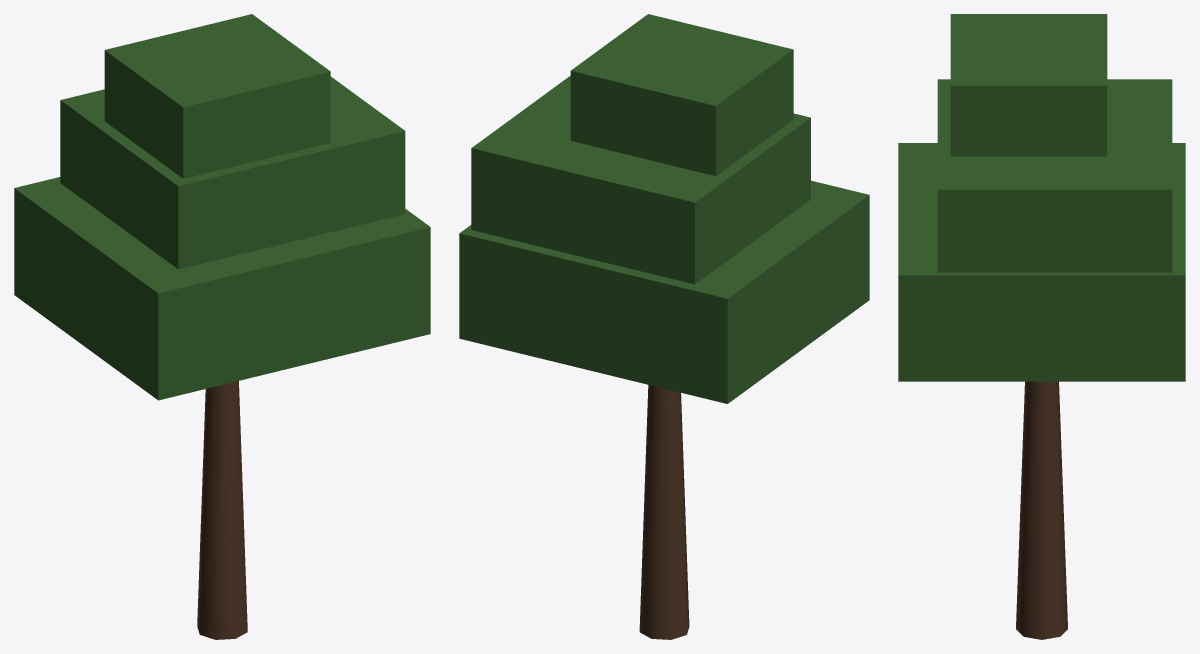
File: SM_P1_Tree_Medium_A.obj
The picture shows the model from 3 angles, left to right: view 1: azimuth 30°, elevation 25°; view 2: azimuth 150°, elevation 25°; view 3: azimuth 270°, elevation 25°; orthographic projection.
Visible parts, largest first — view 1: canopy_low, canopy_mid, canopy_top, trunk; view 2: canopy_low, canopy_mid, canopy_top, trunk; view 3: canopy_low, canopy_mid, canopy_top, trunk.
Part boxes in pixels (box(x1,y1,x2,y2)): canopy_low: box(14, 177, 430, 400); canopy_mid: box(60, 76, 405, 269); canopy_top: box(104, 14, 330, 178); trunk: box(197, 381, 247, 639); canopy_low: box(459, 180, 869, 403); canopy_mid: box(471, 76, 810, 284); canopy_top: box(570, 14, 793, 176); trunk: box(639, 385, 689, 639); canopy_low: box(898, 143, 1185, 381); canopy_mid: box(937, 79, 1172, 272); canopy_top: box(950, 14, 1107, 156); trunk: box(1016, 381, 1067, 639).
Bounding box in the file's own units: 2.4 × 4.85 × 2.2.
